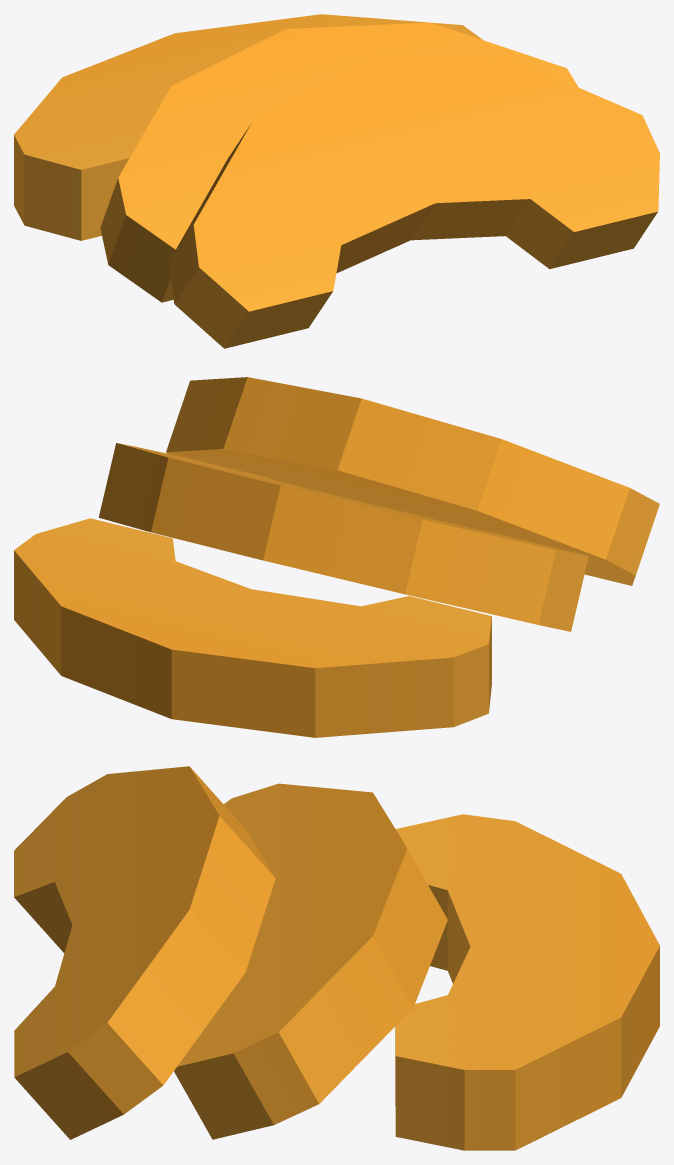
Rendered from Peach Slice.fbx.
3 renders of one model, top to bottom at view 1: azimuth 30°, elevation 25°; view 2: azimuth 150°, elevation 25°; view 3: azimuth 270°, elevation 25°, orthographic. The views are drawn at different scales.
Visible parts, largest first — view 1: Peach Slice.002, Peach Slice.001, Peach Slice; view 2: Peach Slice, Peach Slice.002, Peach Slice.001; view 3: Peach Slice, Peach Slice.002, Peach Slice.001.
Boxes of the visible parts, bbox=[...] form: Peach Slice.002: bbox=[169, 58, 659, 348]; Peach Slice.001: bbox=[100, 22, 578, 302]; Peach Slice: bbox=[14, 14, 483, 240]; Peach Slice: bbox=[14, 518, 491, 737]; Peach Slice.002: bbox=[166, 377, 659, 585]; Peach Slice.001: bbox=[98, 443, 588, 631]; Peach Slice: bbox=[395, 814, 659, 1150]; Peach Slice.002: bbox=[14, 766, 275, 1139]; Peach Slice.001: bbox=[174, 783, 447, 1139].
Size of the model in its own units: 12.23 by 4.77 by 13.06.
